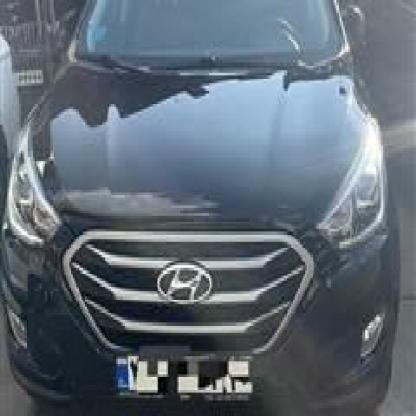Car: (4, 0, 395, 416)
